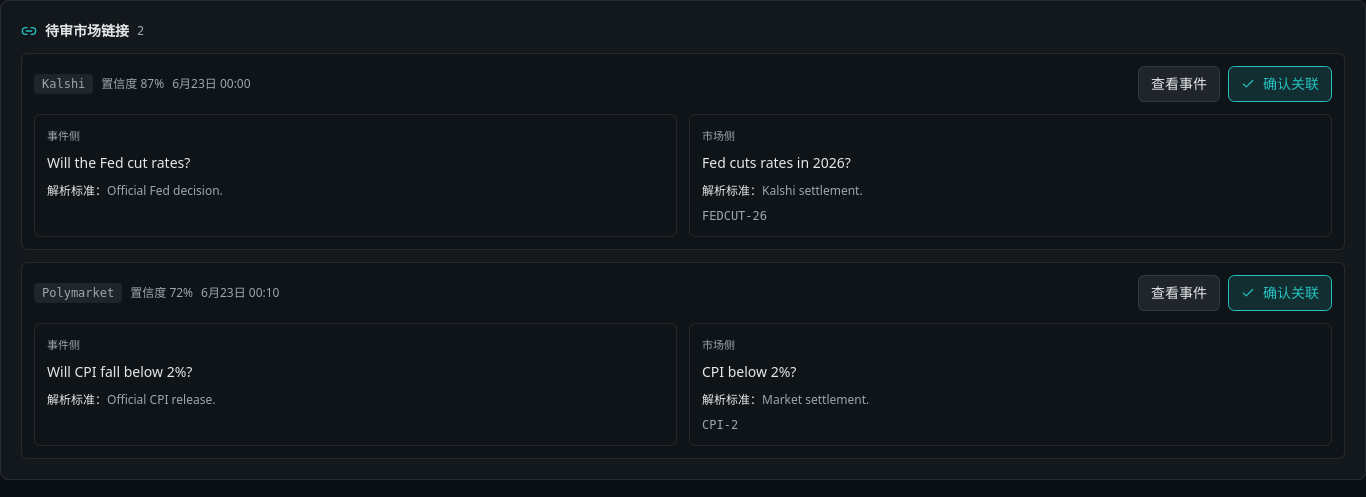
Test case: PendingLinks › keeps the pending link visible when verification fails
expect the text "Will the Fed cut rates?" is shown: met, box [47, 153, 190, 172]
Click the 1st button "确认关联" at (1280, 84), box [1228, 66, 1332, 102]
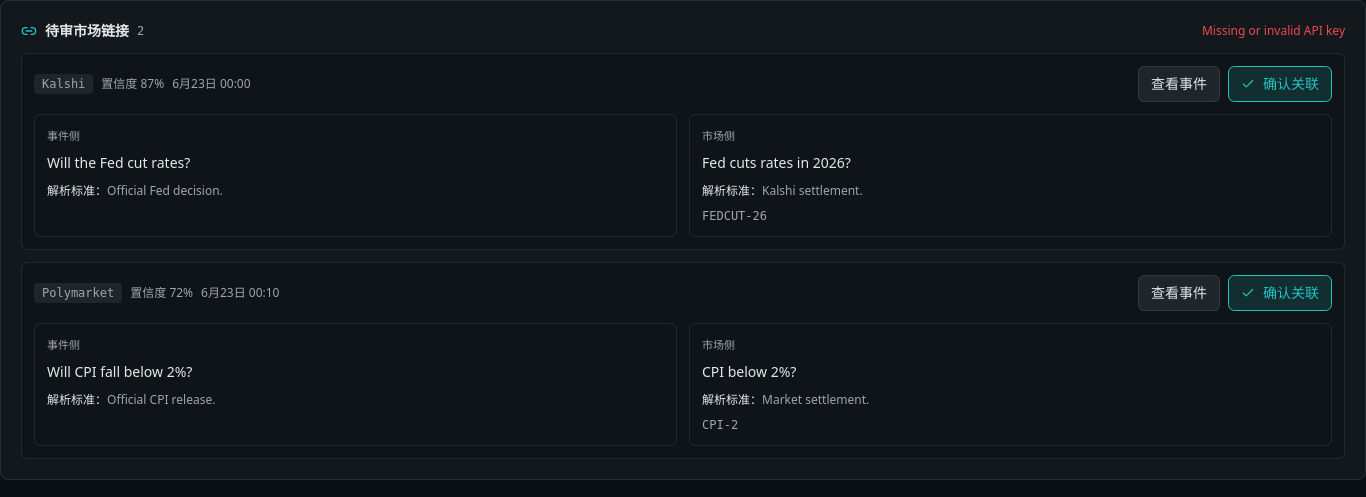
expect the text "Will the Fed cut rates?" is shown: met, box [47, 153, 190, 172]
expect the text "Missing or invalid API key" is shown: met, box [1202, 23, 1345, 39]
